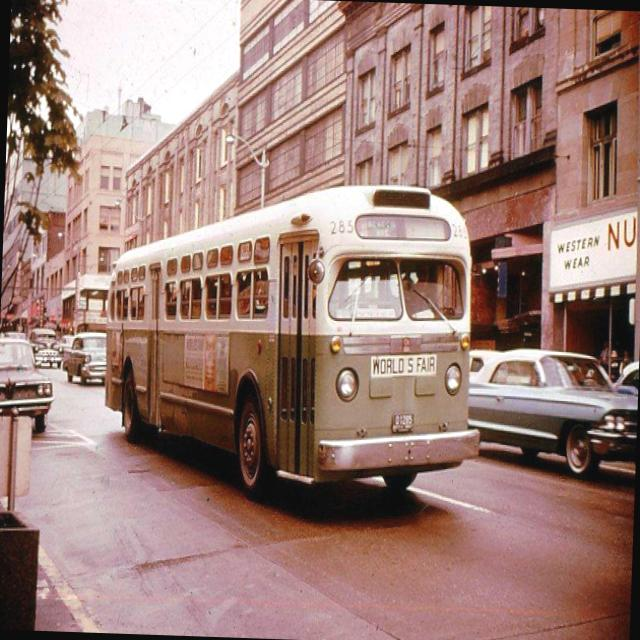Vehicle: (96, 170, 492, 498), (463, 342, 639, 478), (0, 335, 54, 442), (61, 329, 108, 386), (26, 327, 65, 369), (467, 350, 503, 388), (612, 356, 638, 400), (58, 334, 75, 358)
